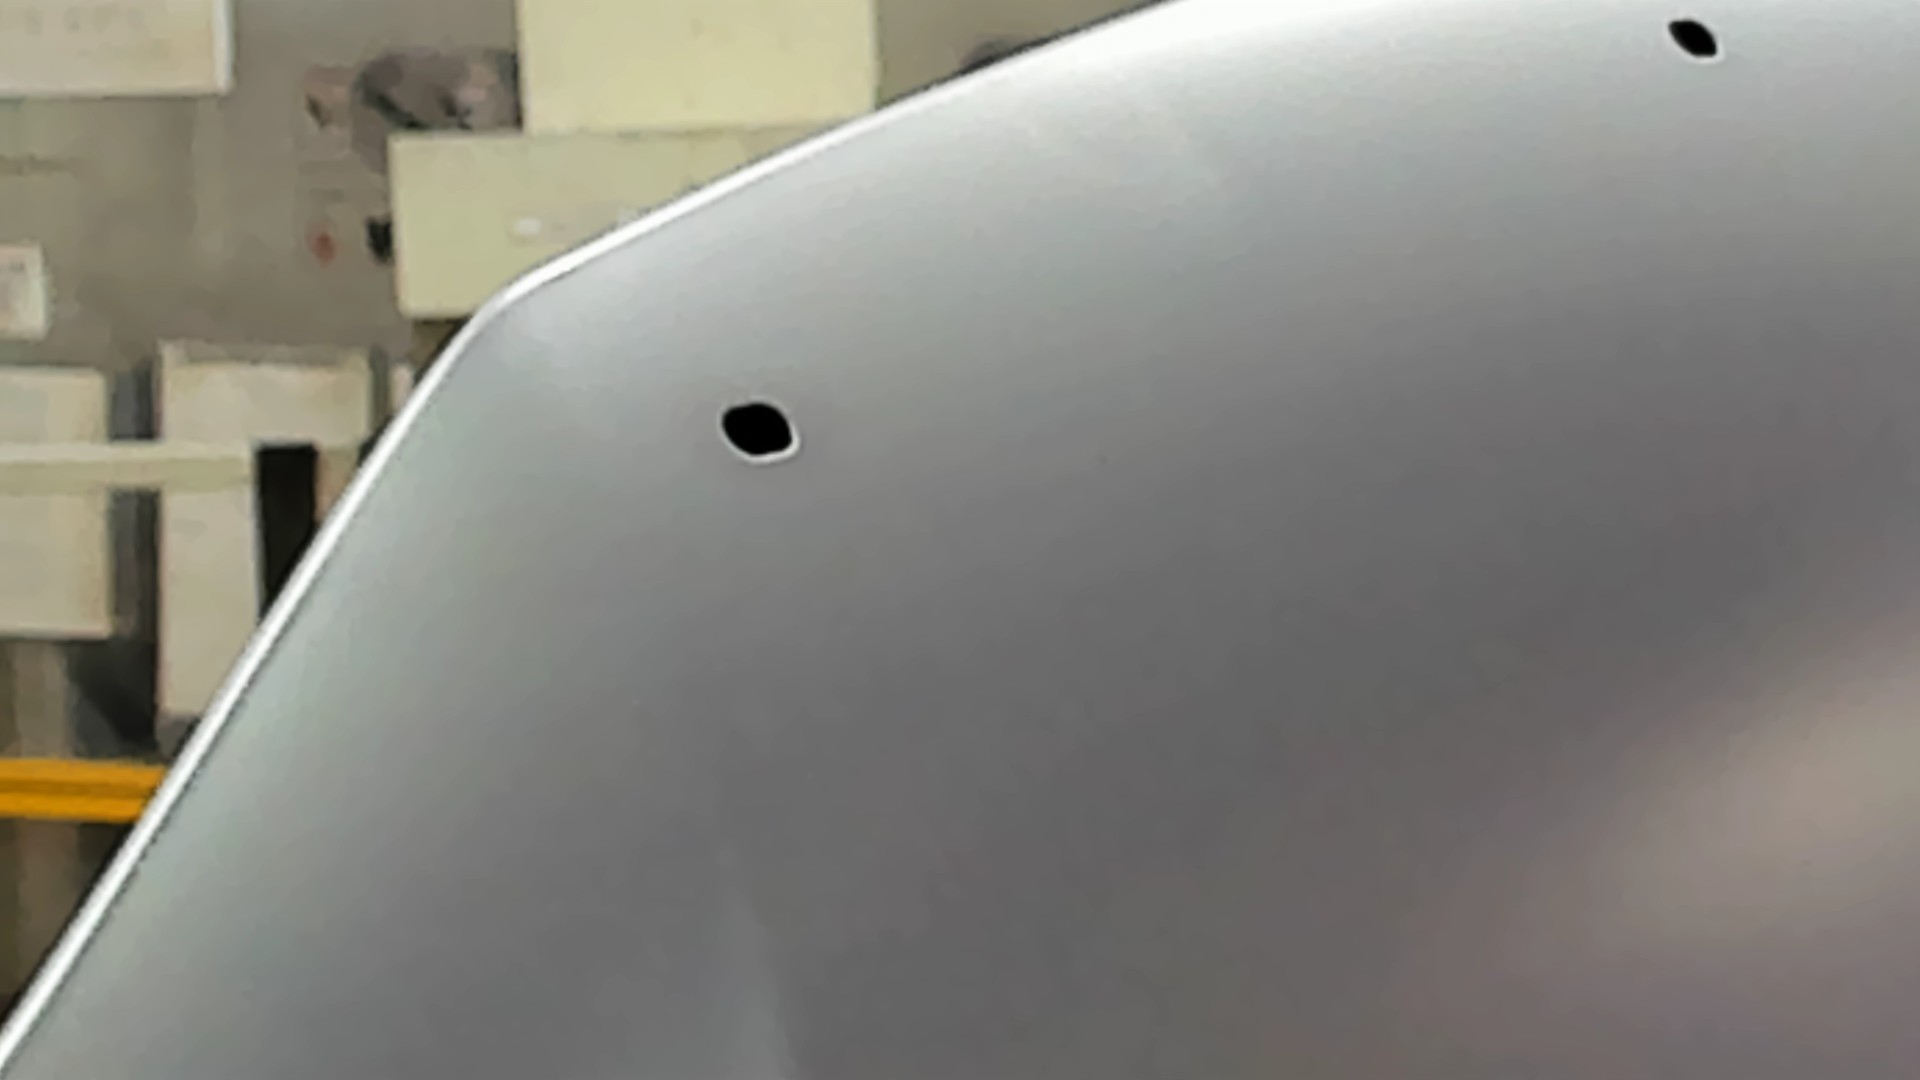amorfo: (707, 394, 814, 463), (1659, 11, 1727, 65)
